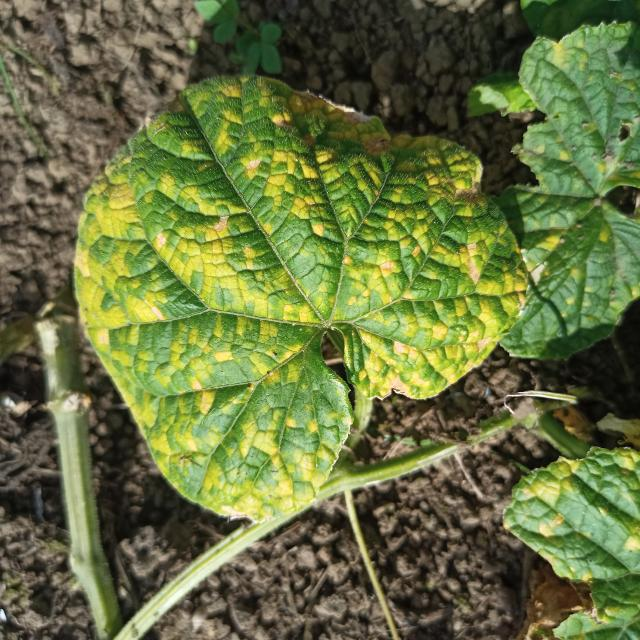disease_cucumber: (75, 67, 523, 515)
